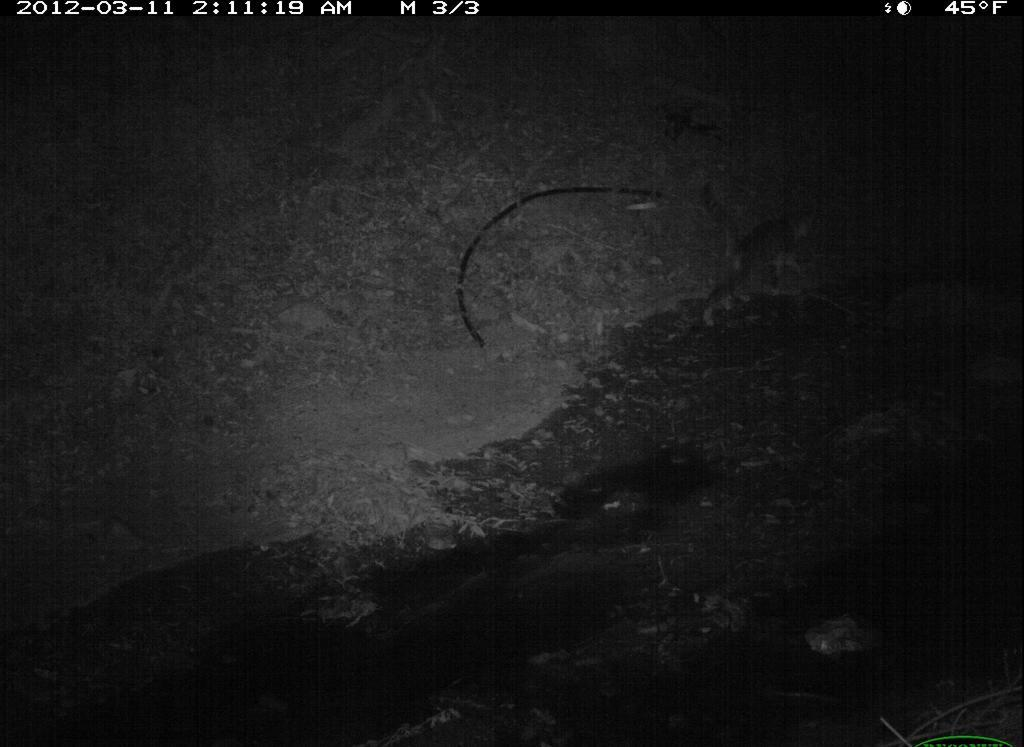cat: (702, 208, 852, 309)
